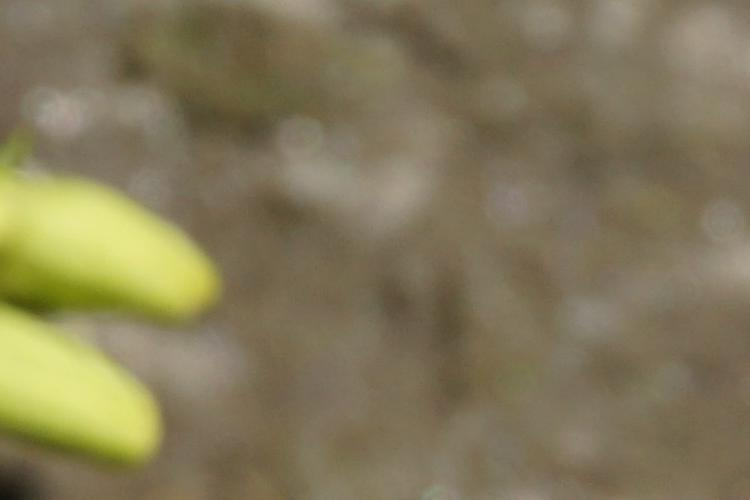bud: (3, 171, 218, 334), (6, 310, 170, 471)
